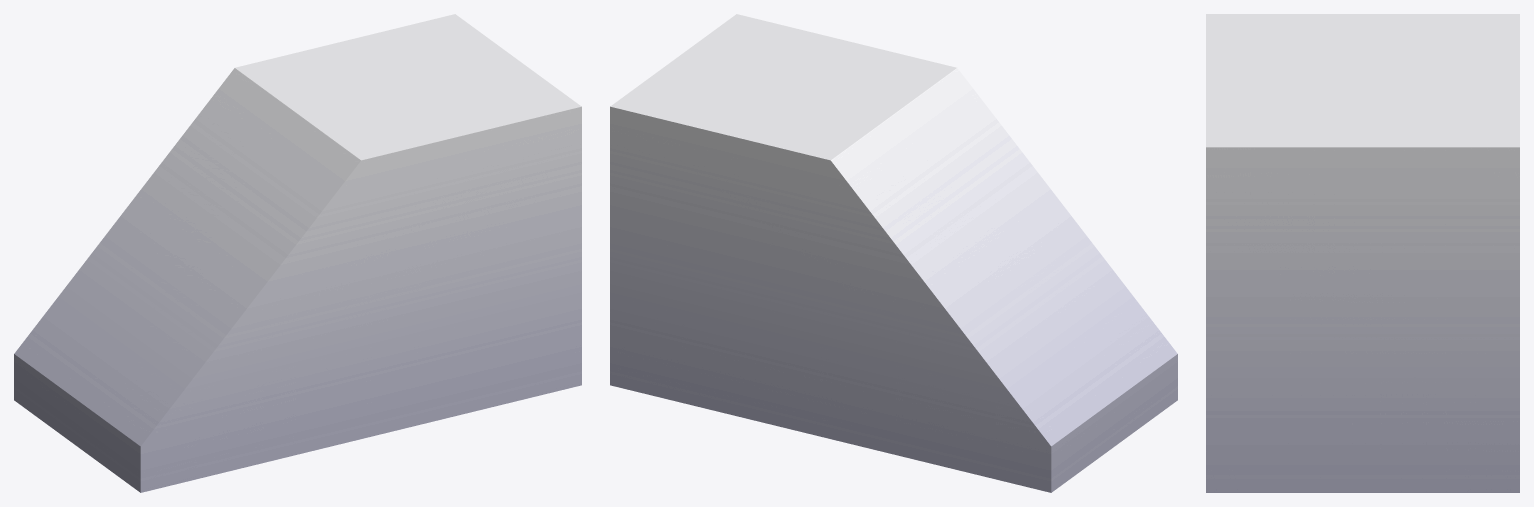
Rendered from none_lq_brick_slope_1x2.glb.
3 views of the same model, side by side, from view 1: azimuth 30°, elevation 25°; view 2: azimuth 150°, elevation 25°; view 3: azimuth 270°, elevation 25° (orthographic). The views are drawn at different scales.
Visible parts, largest first — view 1: none-lq-brick-slope-1x2; view 2: none-lq-brick-slope-1x2; view 3: none-lq-brick-slope-1x2.
Part boxes in pixels (box(x1,y1,x2,y2)): none-lq-brick-slope-1x2: box(14, 14, 581, 492); none-lq-brick-slope-1x2: box(610, 14, 1177, 492); none-lq-brick-slope-1x2: box(1206, 14, 1519, 492).
Bounding box in the file's own units: 0.159 × 0.096 × 0.079.
Materials: 1 (1 with a texture image).
